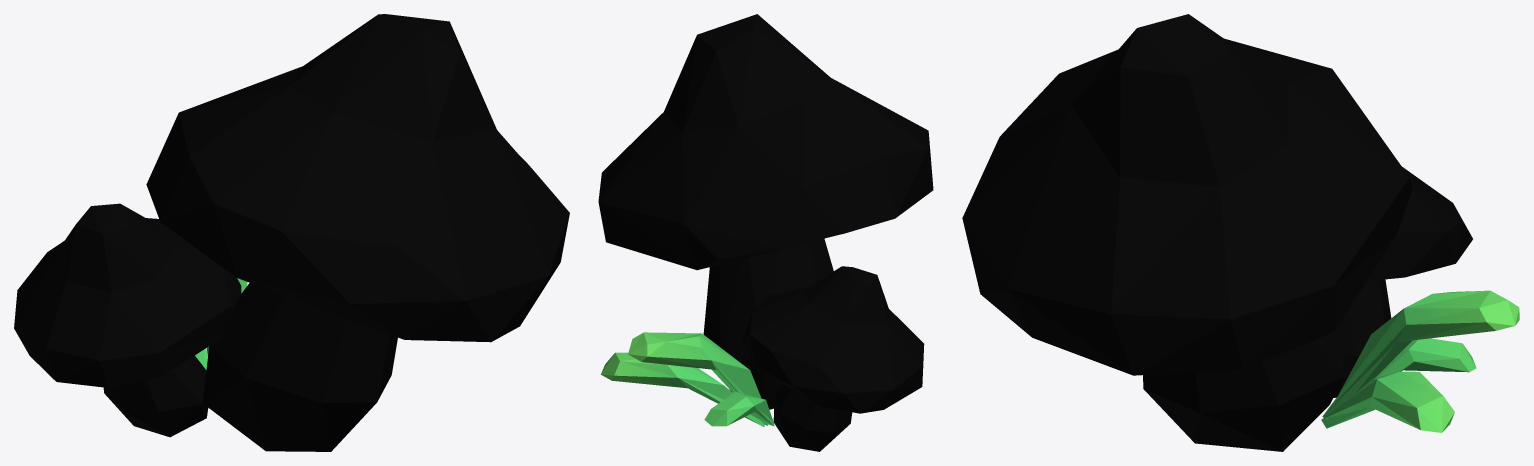
Rendered from shroom2.obj.
The picture shows the model from 3 angles, left to right: view 1: azimuth 30°, elevation 25°; view 2: azimuth 150°, elevation 25°; view 3: azimuth 270°, elevation 25°; orthographic projection. The views are drawn at different scales.
Visible parts, largest first — view 1: mushroom; view 2: mushroom; view 3: mushroom.
Boxes of the visible parts, x1,y1,x2,y2 form: mushroom: (14, 14, 569, 451); mushroom: (598, 14, 933, 451); mushroom: (962, 14, 1519, 451).
Bounding box in the file's own units: 0.5253 × 0.4889 × 0.5436.
